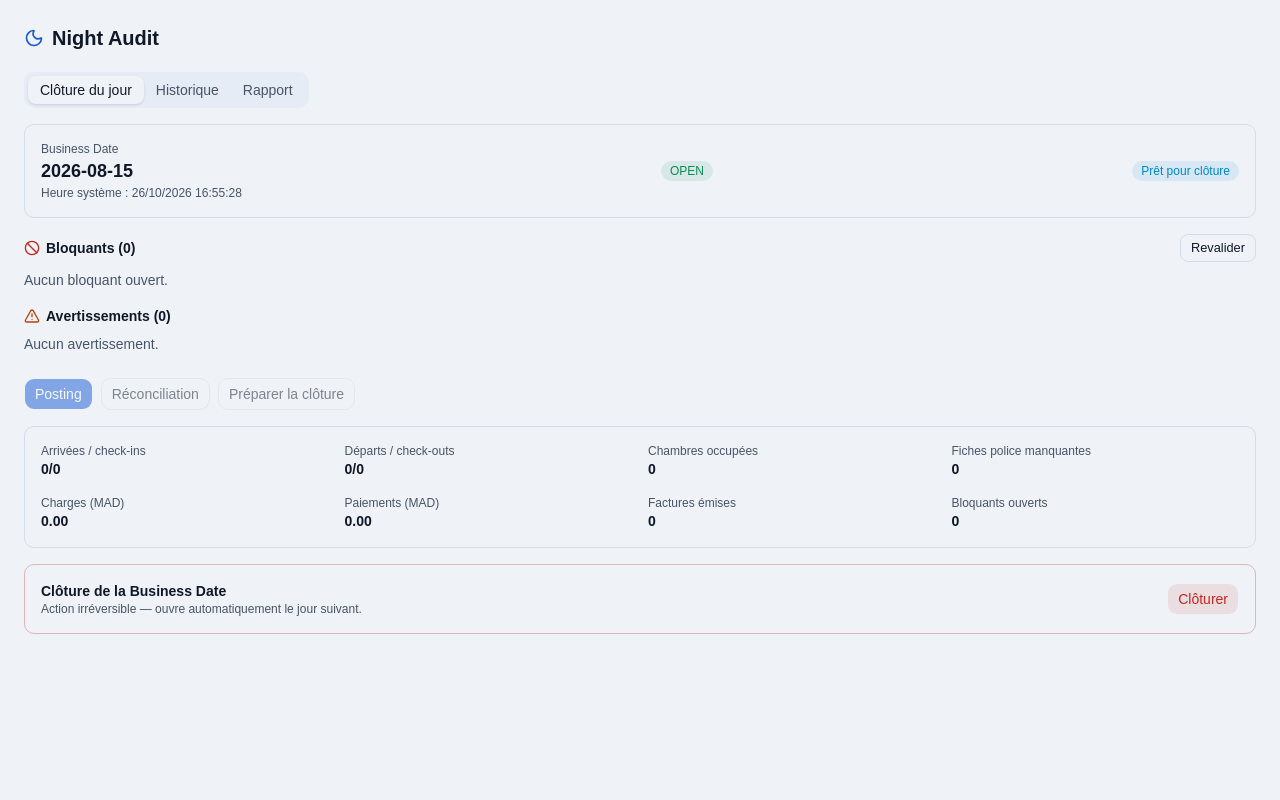
Scenario: NightAuditPage (ARCH-011A) › ouvre le formulaire de clôture avec validation du motif ≥ 10 caractères
Click the button "Clôturer". click: (1203, 599)
box: [1167,583,1239,615]
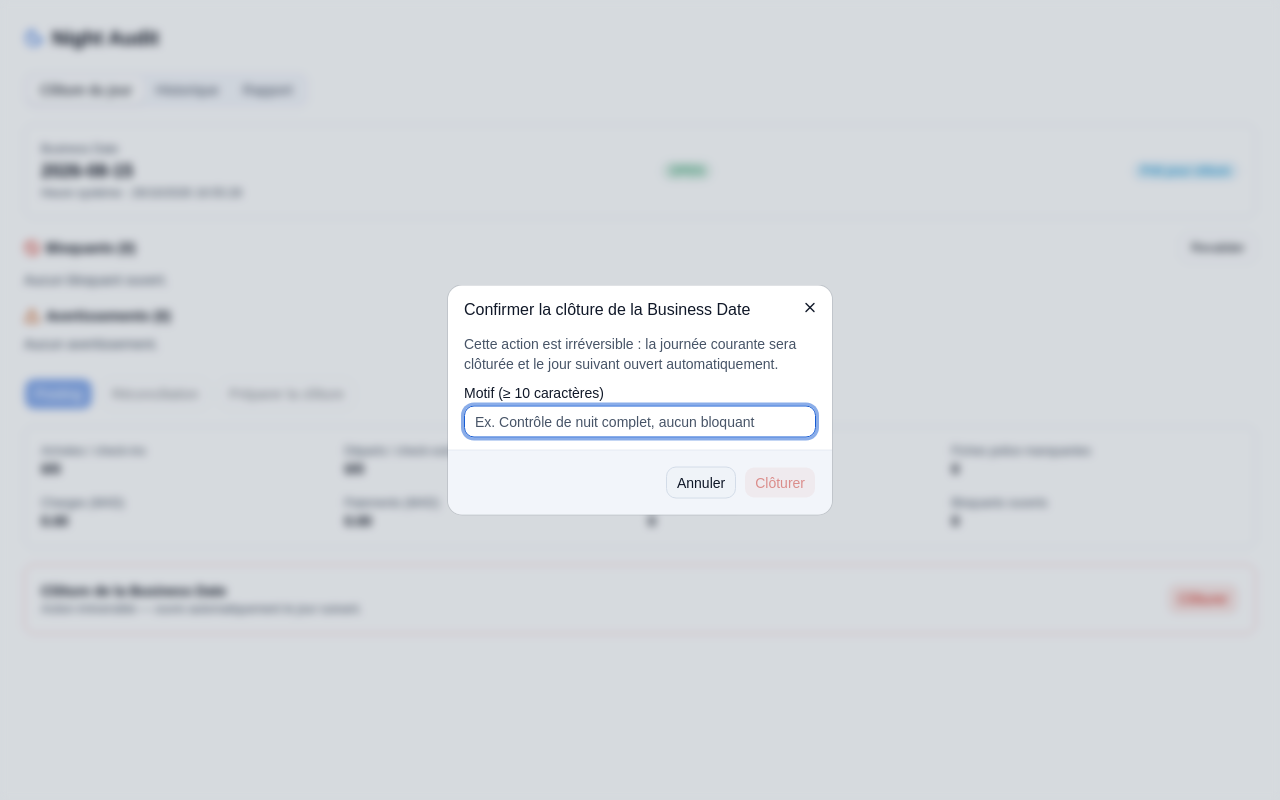
Now the button "Clôturer" is disabled, box [744,466,816,498]
